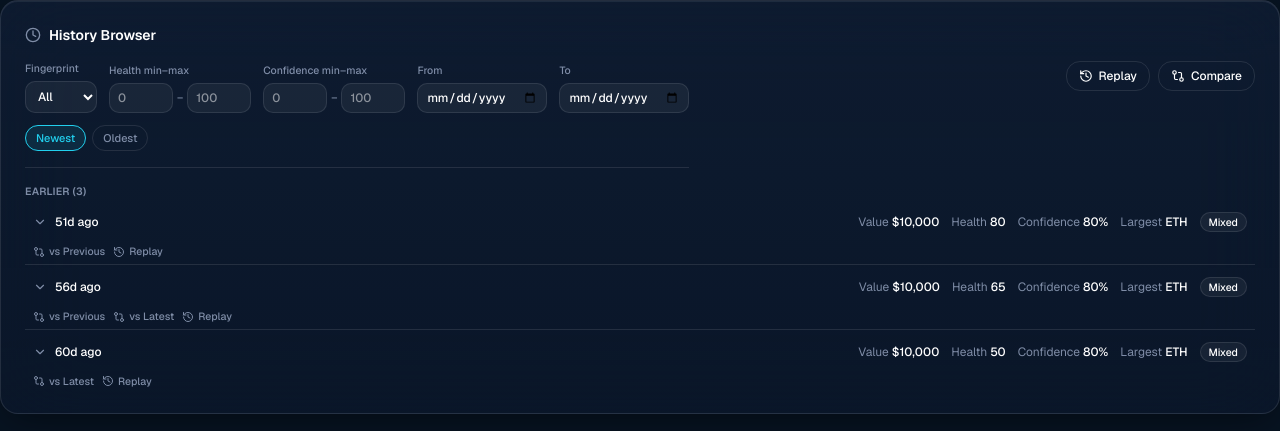
Test: HistoryBrowserSection — Replay › PREVIOUS: steps back exactly one real snapshot from the latest
What coordinates should you click on to do the following:
click the button "Replay" in the row of "From"
I would click on:
 (1108, 76)
Its box is [1066,61,1150,91].
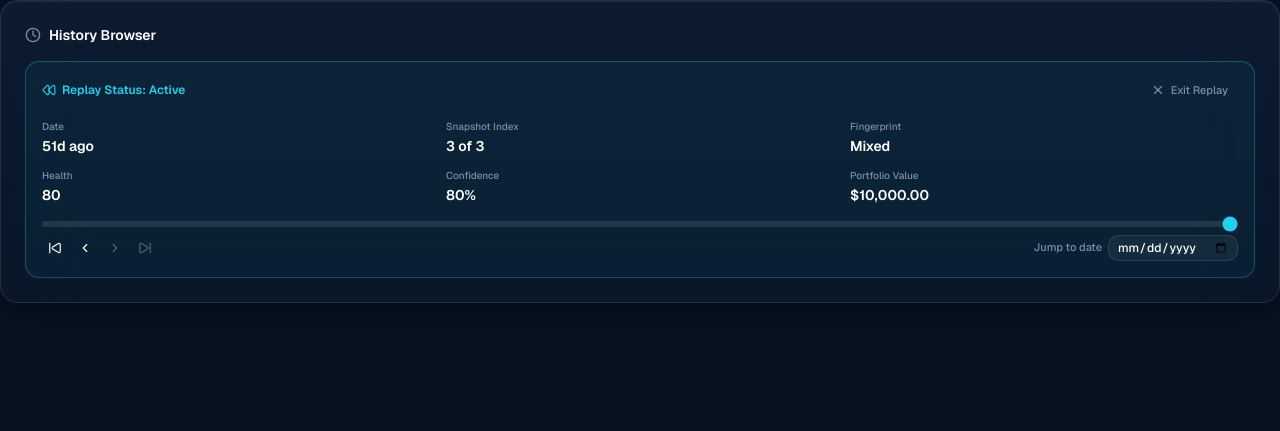
What coordinates should you click on to do the following:
click the button named "Previous snapshot"
I would click on:
 (85, 248)
Its box is [72,234,98,260].
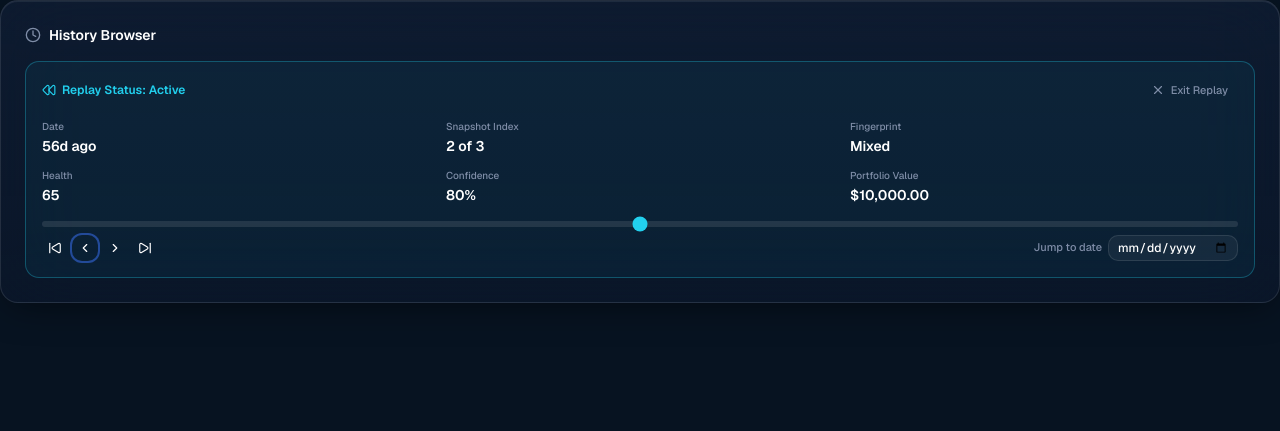
Now the text "2 of 3" is shown, box [446,136,484,154]
Now the text "65" is shown, box [42,186,60,204]
